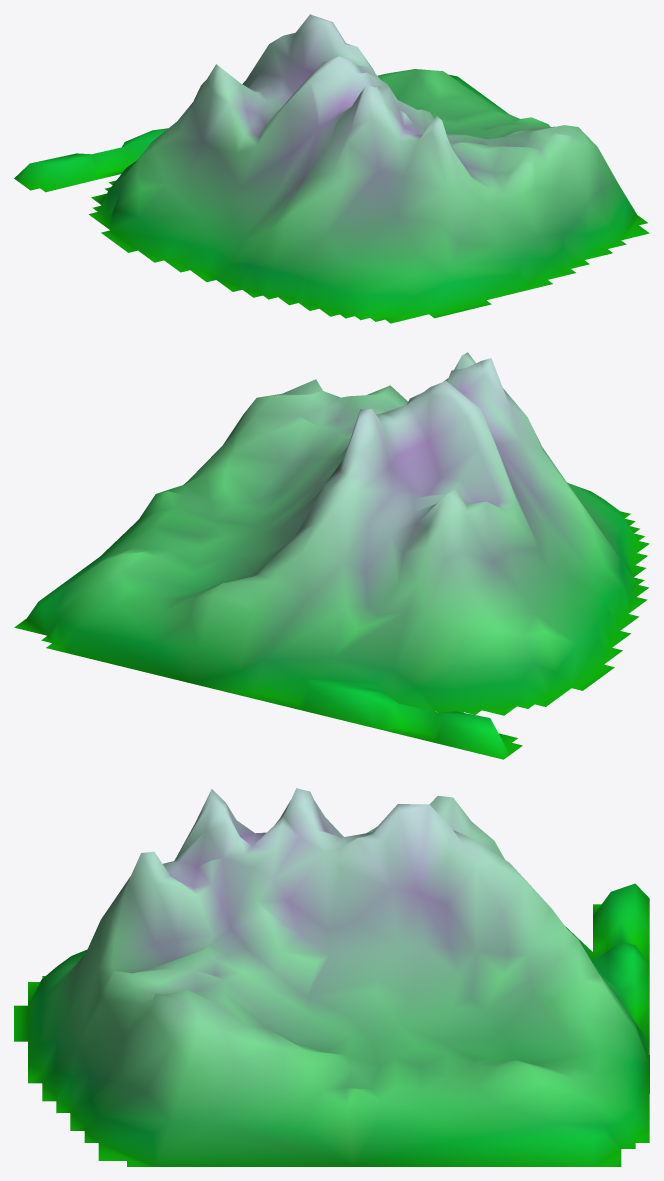
File: mountain_b.glb
3 renders of one model, top to bottom at view 1: azimuth 30°, elevation 25°; view 2: azimuth 150°, elevation 25°; view 3: azimuth 270°, elevation 25°, orthographic. The views are drawn at different scales.
Parts seen in each view (by area): view 1: mountain_b; view 2: mountain_b; view 3: mountain_b.
Boxes of the visible parts, bbox=[...] form: mountain_b: bbox=[14, 14, 649, 323]; mountain_b: bbox=[14, 352, 649, 759]; mountain_b: bbox=[14, 788, 649, 1166].
Size of the model in its own units: 1 by 0.3948 by 1.
